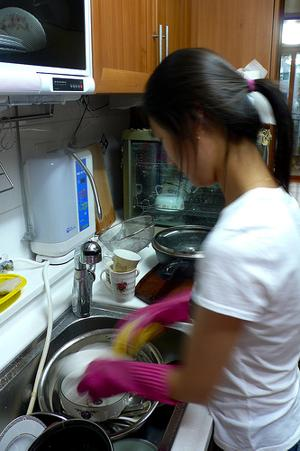person: (77, 47, 300, 450)
